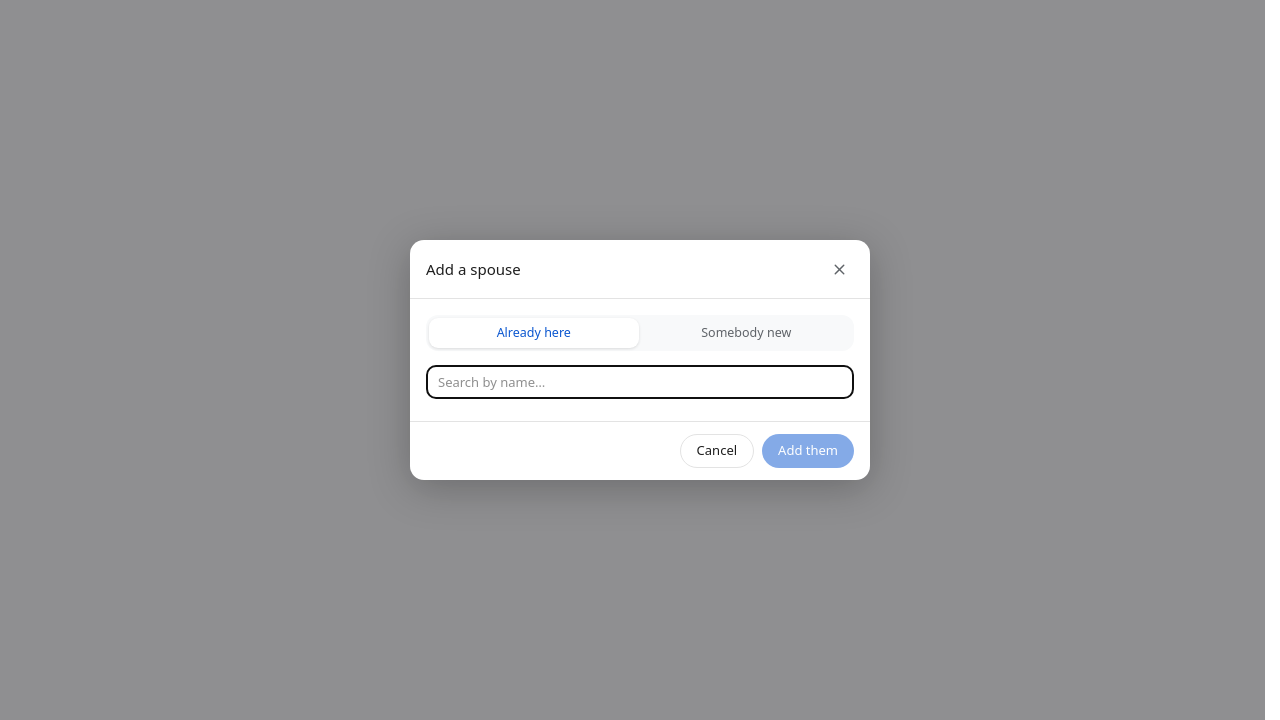
Scenario: AddRelativeModal › Add button disabled-state branches › shows "Saving…" and stays disabled mid-submit (saving branch of disabled)
The image size is (1280, 720).
In the field with placeholder "Search by name…": coordinates (640, 382) [426,365,854,399], type "X"
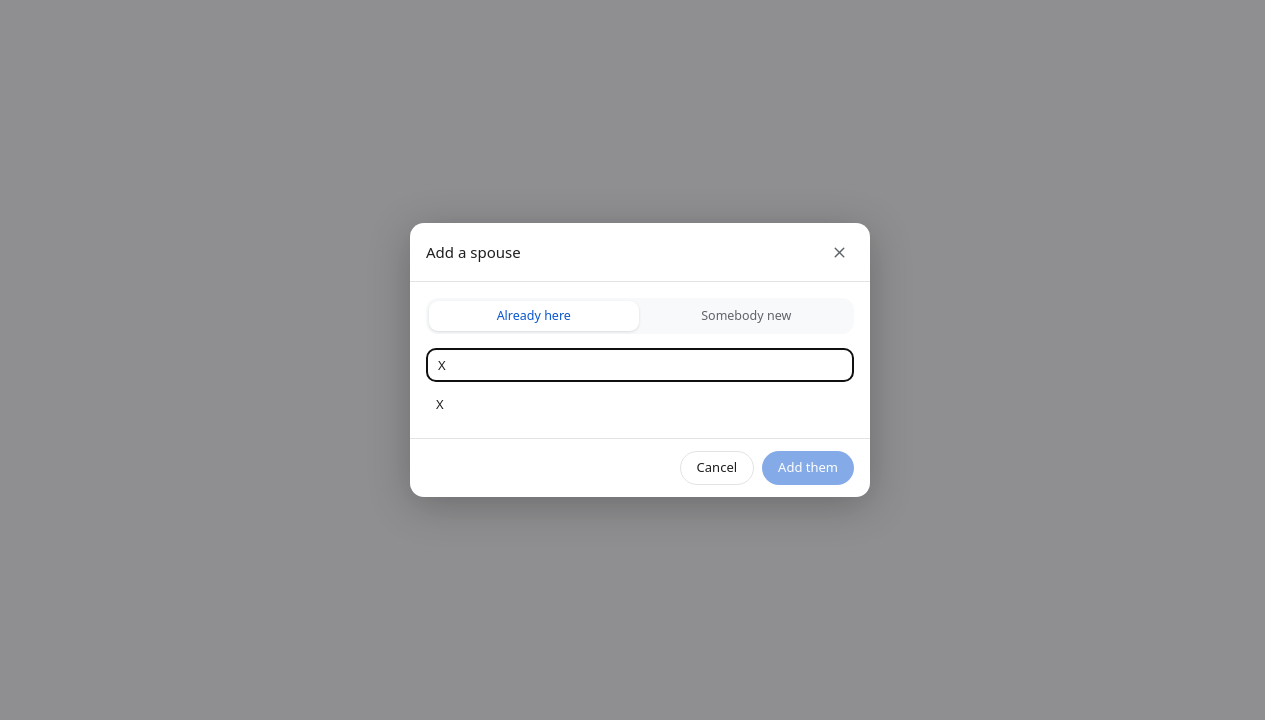
expect the text "X" is shown: met, box [436,395,444,413]
Click the button "X": coordinates (440, 404) [426,388,854,422]
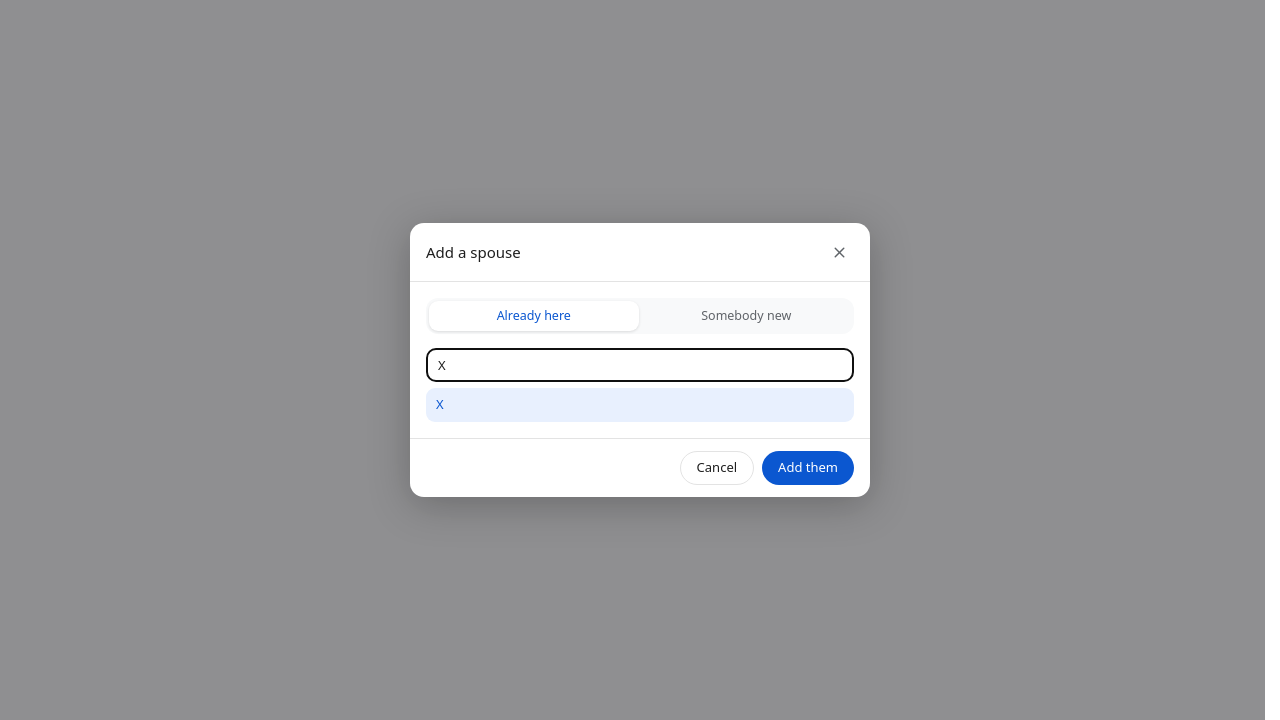
Click the button "Add them": coordinates (808, 468) [762,451,854,485]
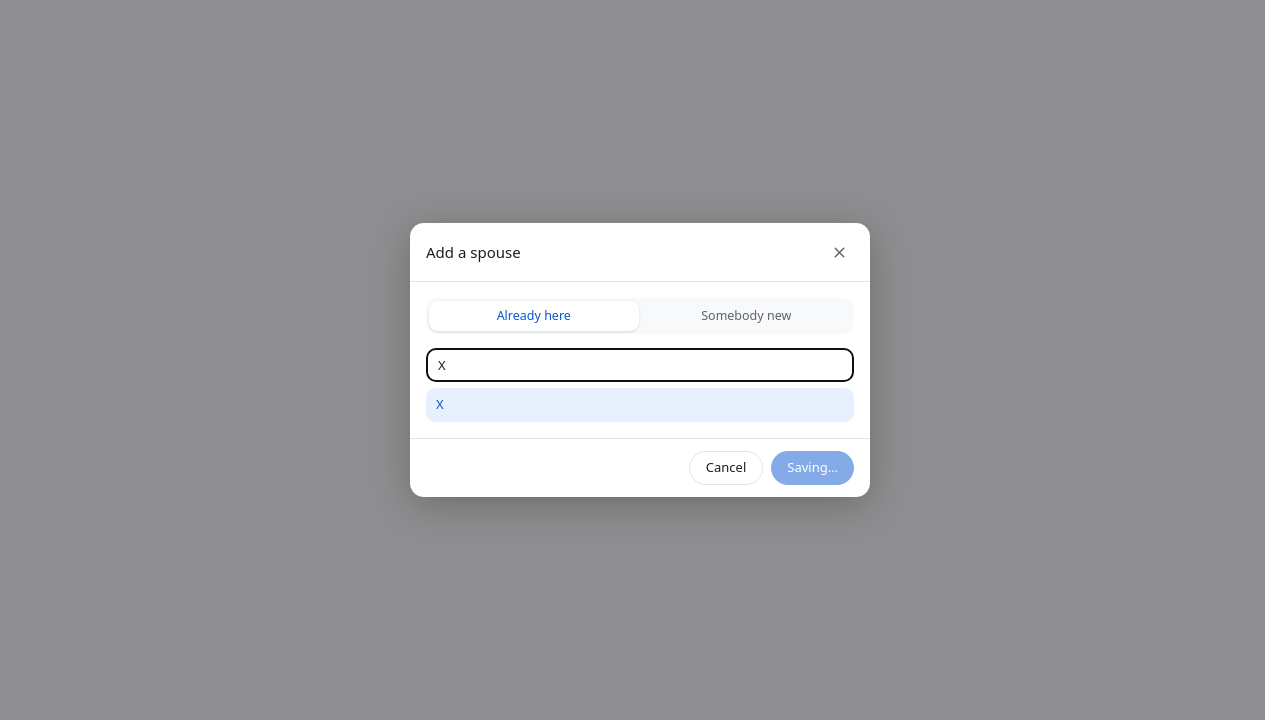
expect the button "Saving…" is disabled: met, box [771,451,854,485]
